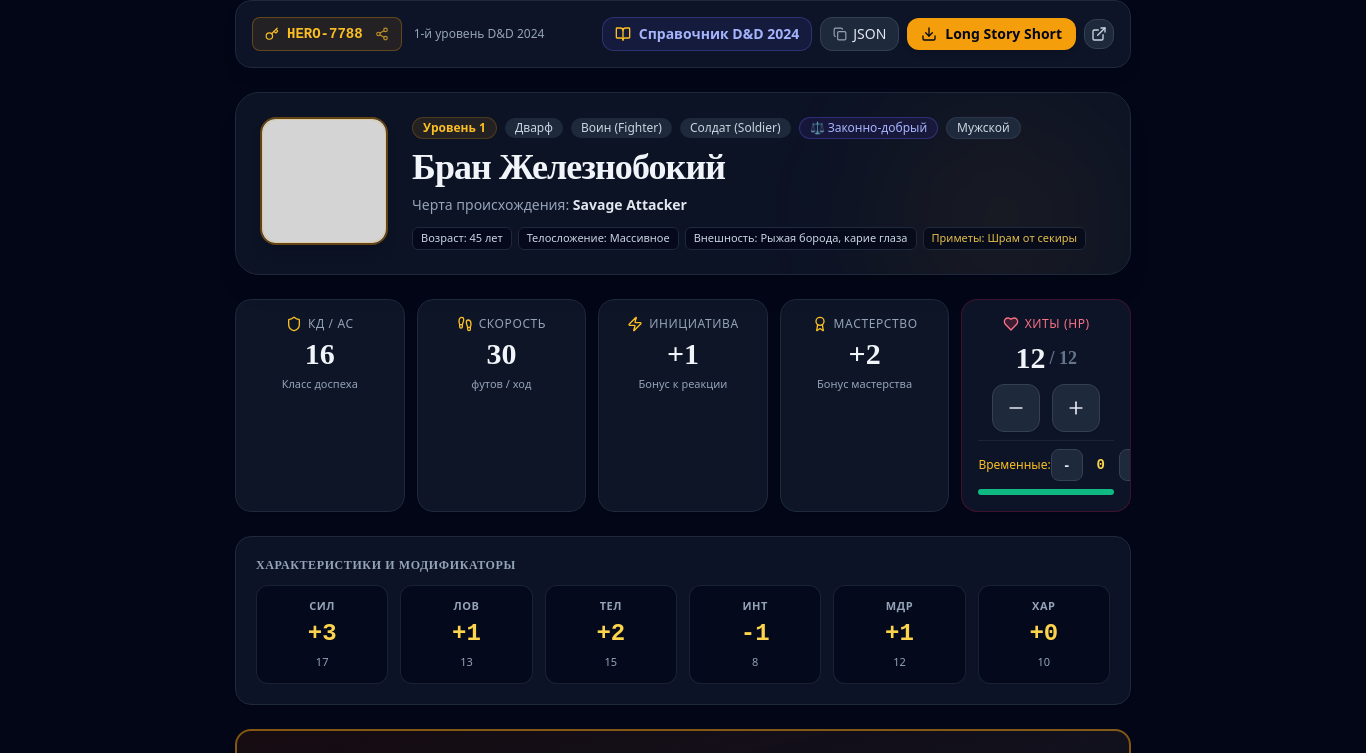
it: InteractiveSheet Component › opens and closes ShareKeyModal displaying the HERO-XXXX key and copy button
Click share button or key badge to open modal
Click the button with test id "share-key-trigger".
click(327, 34)  # box left=252, top=17, right=402, bottom=51
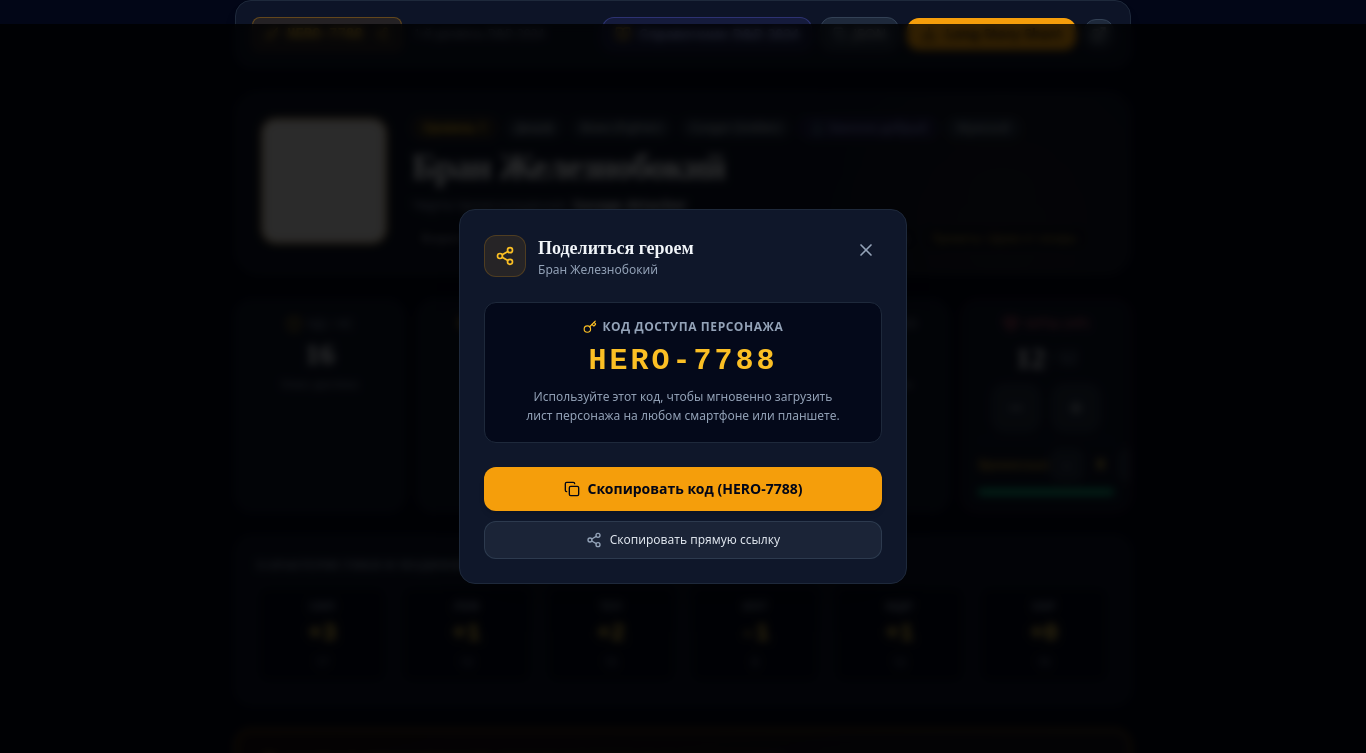
Expected: the dialog is shown, left=459, top=208, right=907, bottom=584
Click the button "Скопировать код (HERO-7788)".
click(683, 488)  # box left=484, top=466, right=882, bottom=510
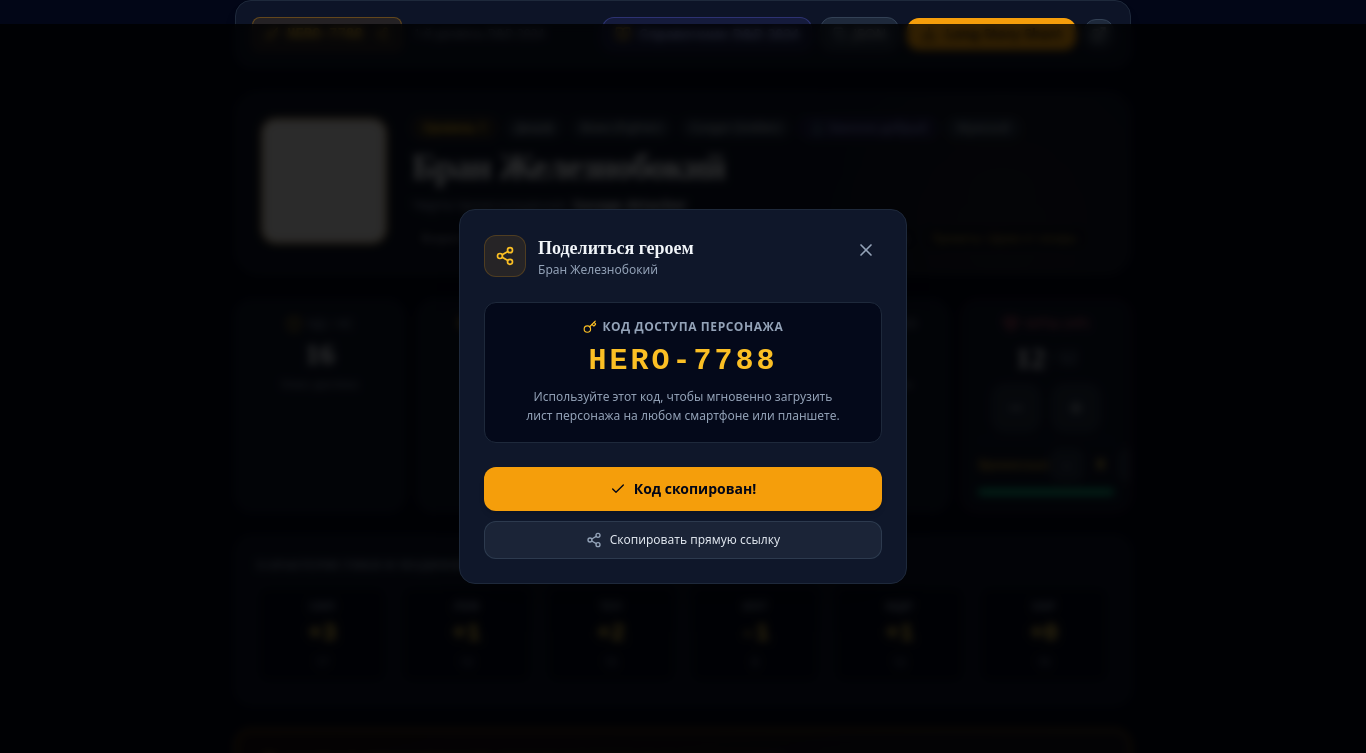
Close modal
Click the button named "Закрыть".
click(866, 250)  # box left=850, top=234, right=882, bottom=266
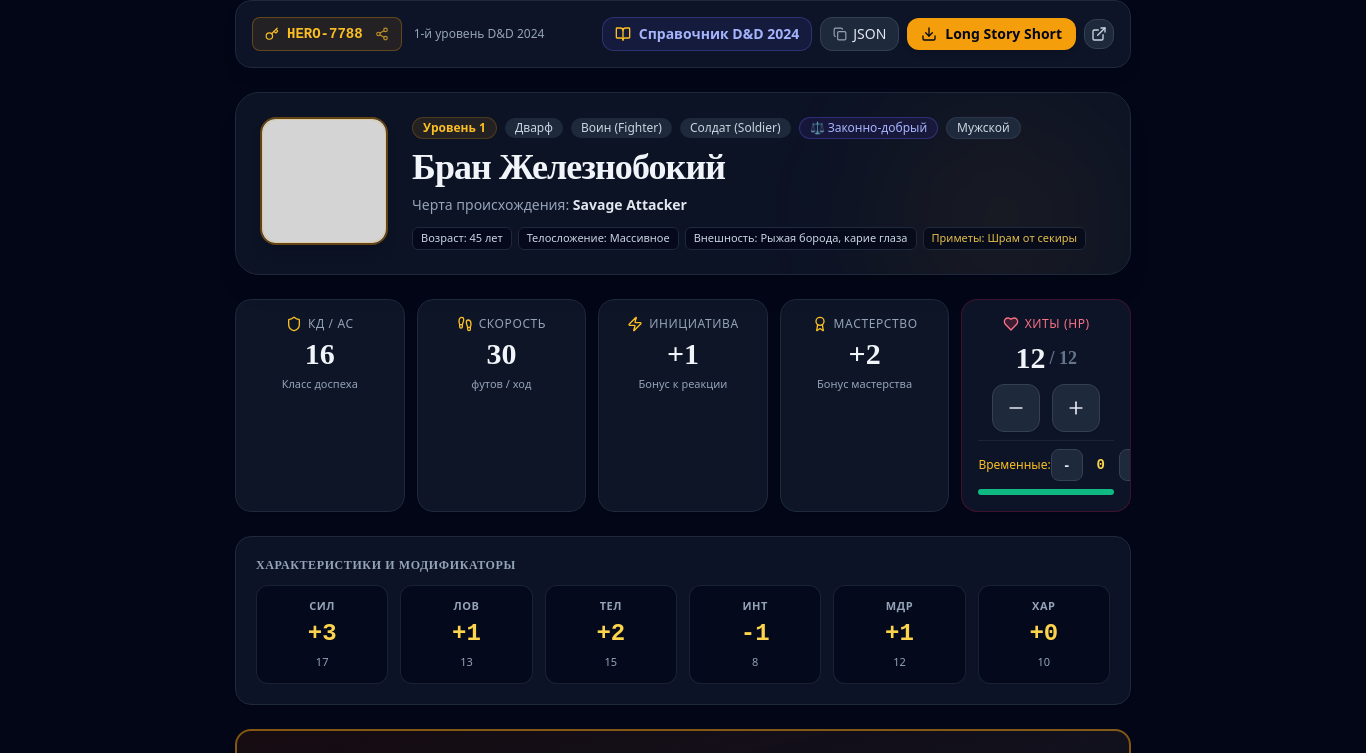
Expected: the dialog is gone
